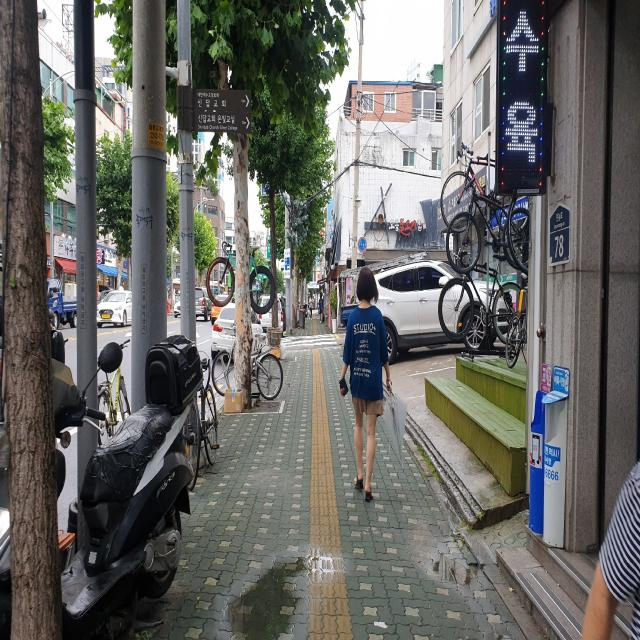car: (360, 259, 512, 358)
motorbike: (0, 336, 202, 640)
